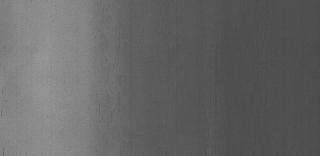silk spot: (88, 25, 136, 143)
